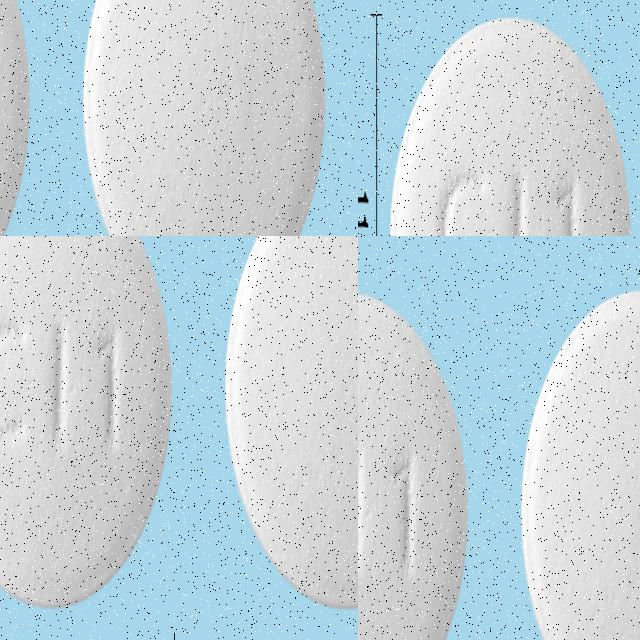Celltrion Levofloxacin: (385, 8, 638, 236)
Ciproc: (0, 236, 181, 617), (210, 236, 358, 620)
Ciprocell: (519, 287, 640, 640), (358, 288, 473, 640)
Clari: (0, 126, 204, 236)
